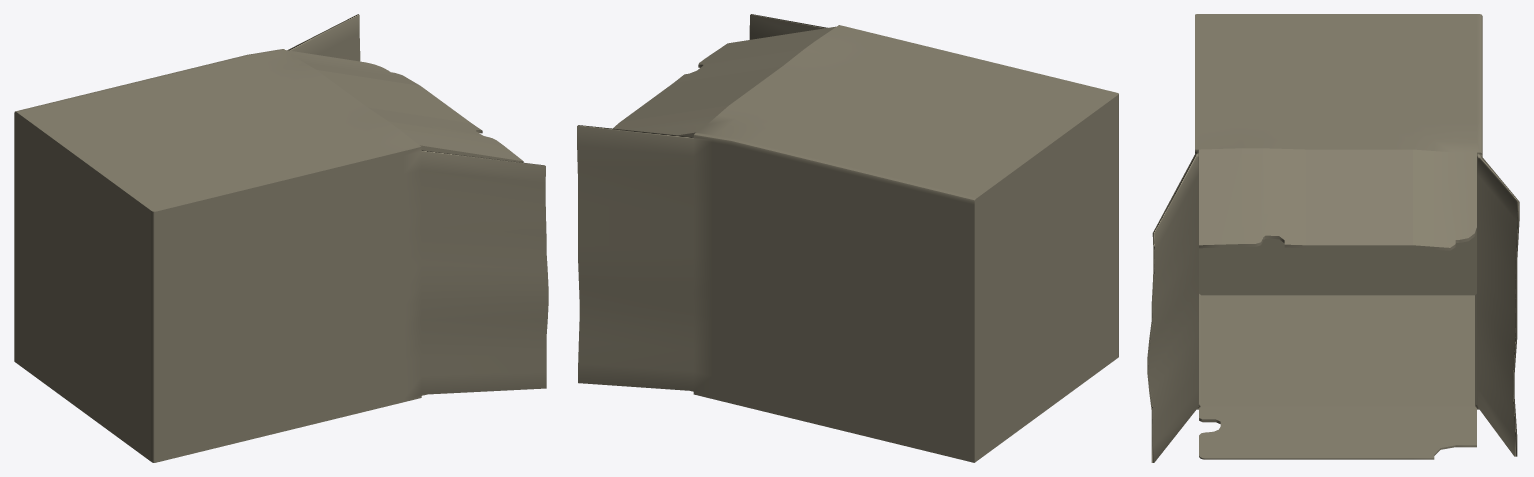
File: boxhouse.fbx
The picture shows the model from 3 angles, left to right: view 1: azimuth 30°, elevation 25°; view 2: azimuth 150°, elevation 25°; view 3: azimuth 270°, elevation 25°; orthographic projection. The views are drawn at different scales.
Visible parts, largest first — view 1: pCube1; view 2: pCube1; view 3: pCube1.
Boxes of the visible parts, x1,y1,x2,y2 form: pCube1: (14, 14, 548, 462); pCube1: (577, 14, 1118, 462); pCube1: (1147, 14, 1519, 462).
Size of the model in its own units: 139 by 90.15 by 116.
